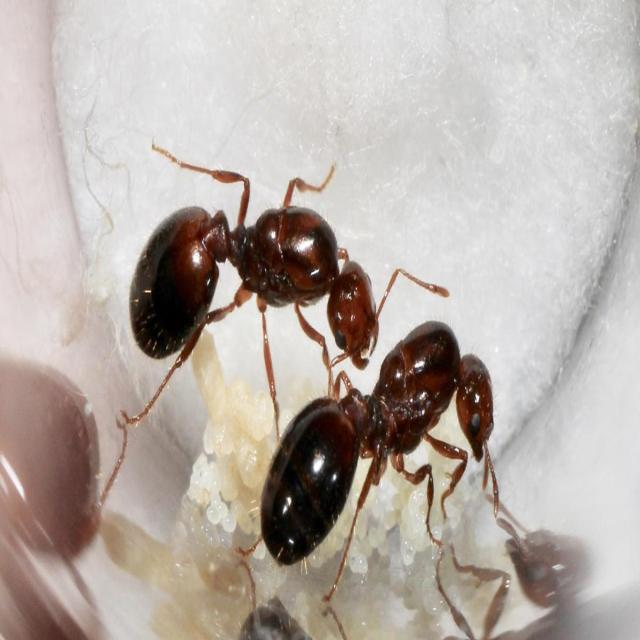ants: (261, 304, 504, 582), (130, 142, 376, 394)
